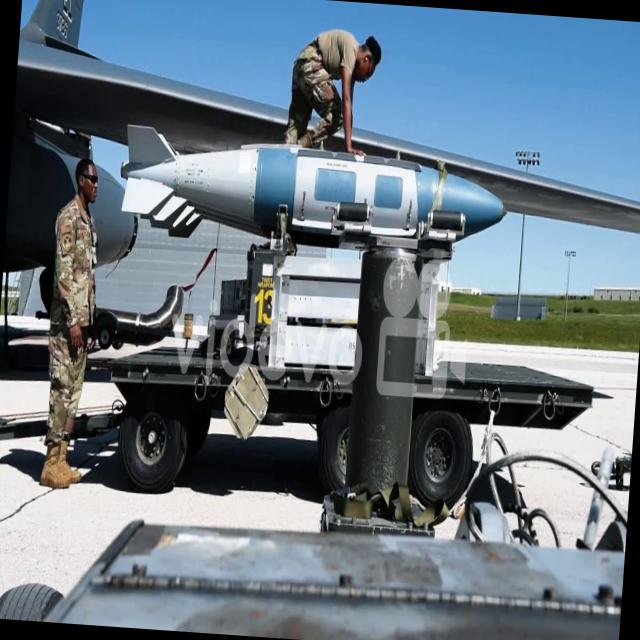rocket: (117, 113, 516, 263)
